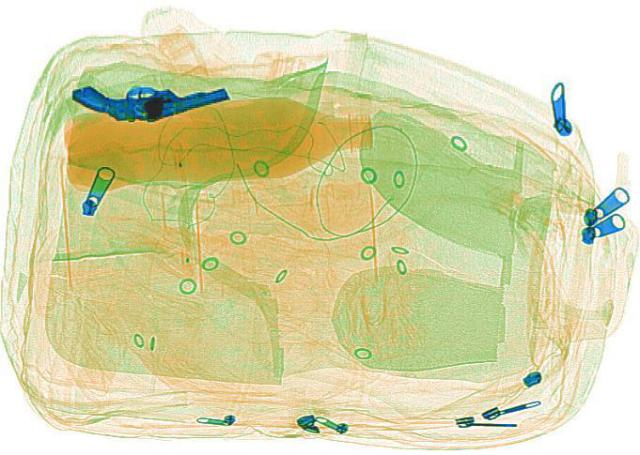Gun: (61, 64, 229, 135)
